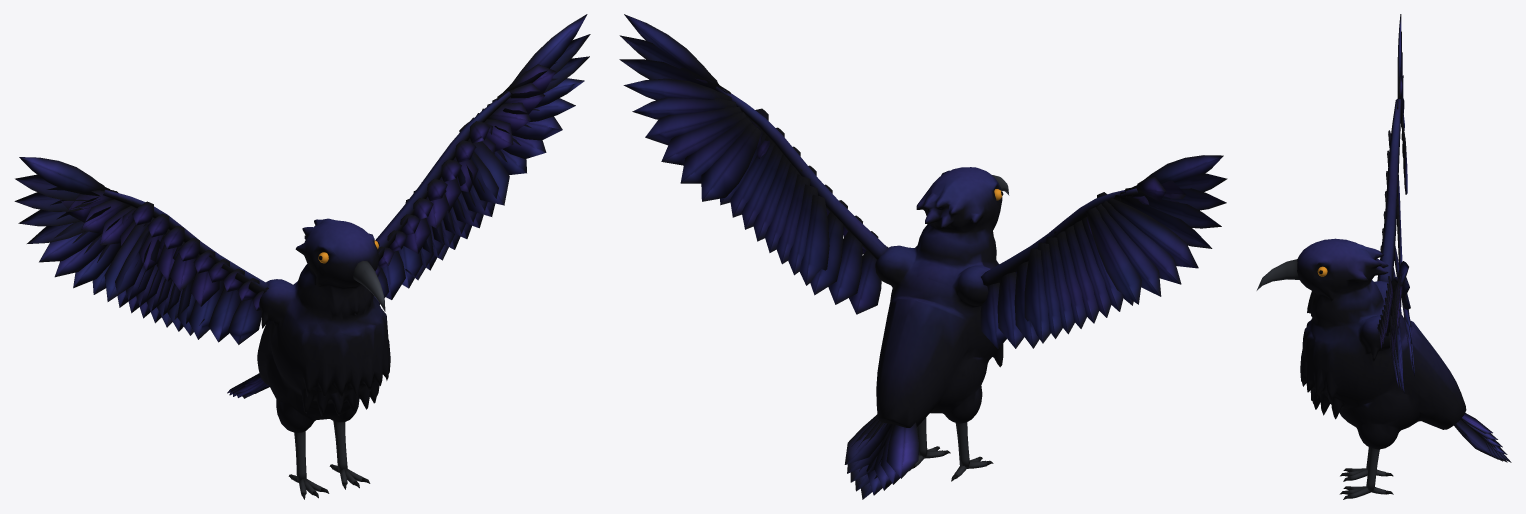
File: raven.fbx
3 renders of one model, left to right at view 1: azimuth 30°, elevation 25°; view 2: azimuth 150°, elevation 25°; view 3: azimuth 270°, elevation 25°, orthographic. The views are drawn at different scales.
Parts seen in each view (by area): view 1: Raven_Body; view 2: Raven_Body; view 3: Raven_Body.
Part boxes in pixels (<box>): Raven_Body: <box>14,14,590,499</box>; Raven_Body: <box>619,14,1227,499</box>; Raven_Body: <box>1256,14,1511,499</box>.
Bounding box in the file's own units: 5.95 × 3.74 × 2.51.
Materials: 2 (1 with a texture image).
